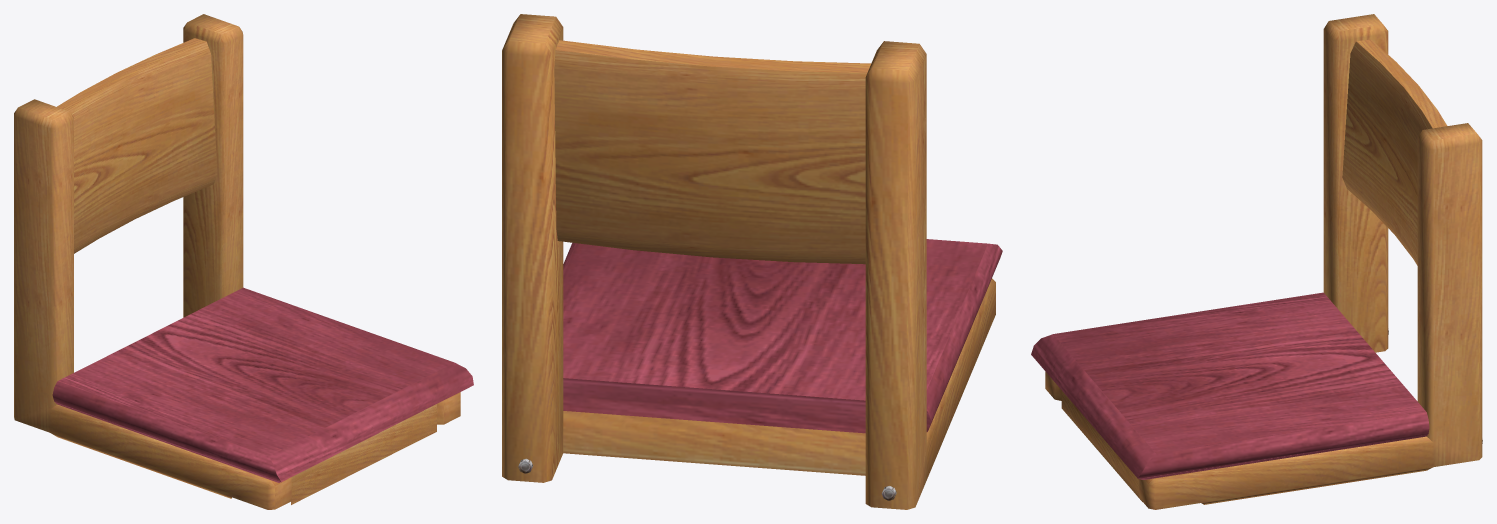
3 views of the same model, side by side, from view 1: azimuth 30°, elevation 25°; view 2: azimuth 150°, elevation 25°; view 3: azimuth 270°, elevation 25° (orthographic). The views are drawn at different scales.
Parts seen in each view (by area): view 1: Joint_0_Object_0, Joint_0_Object_2; view 2: Joint_0_Object_0, Joint_0_Object_2; view 3: Joint_0_Object_0, Joint_0_Object_2.
Boxes of the visible parts, x1,y1,x2,y2 form: Joint_0_Object_0: (14,14,460,509); Joint_0_Object_2: (52,287,473,482); Joint_0_Object_0: (502,14,995,509); Joint_0_Object_2: (563,239,1002,433); Joint_0_Object_0: (1045,14,1482,509); Joint_0_Object_2: (1031,292,1429,479).
Size of the model in its own units: 778 by 680 by 840.
3 materials, 3 textured.
